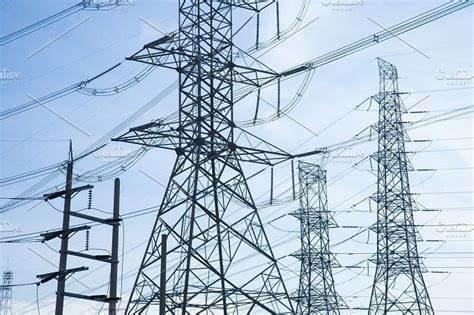power_tower: (126, 1, 293, 315), (361, 58, 446, 315), (280, 151, 350, 315)
